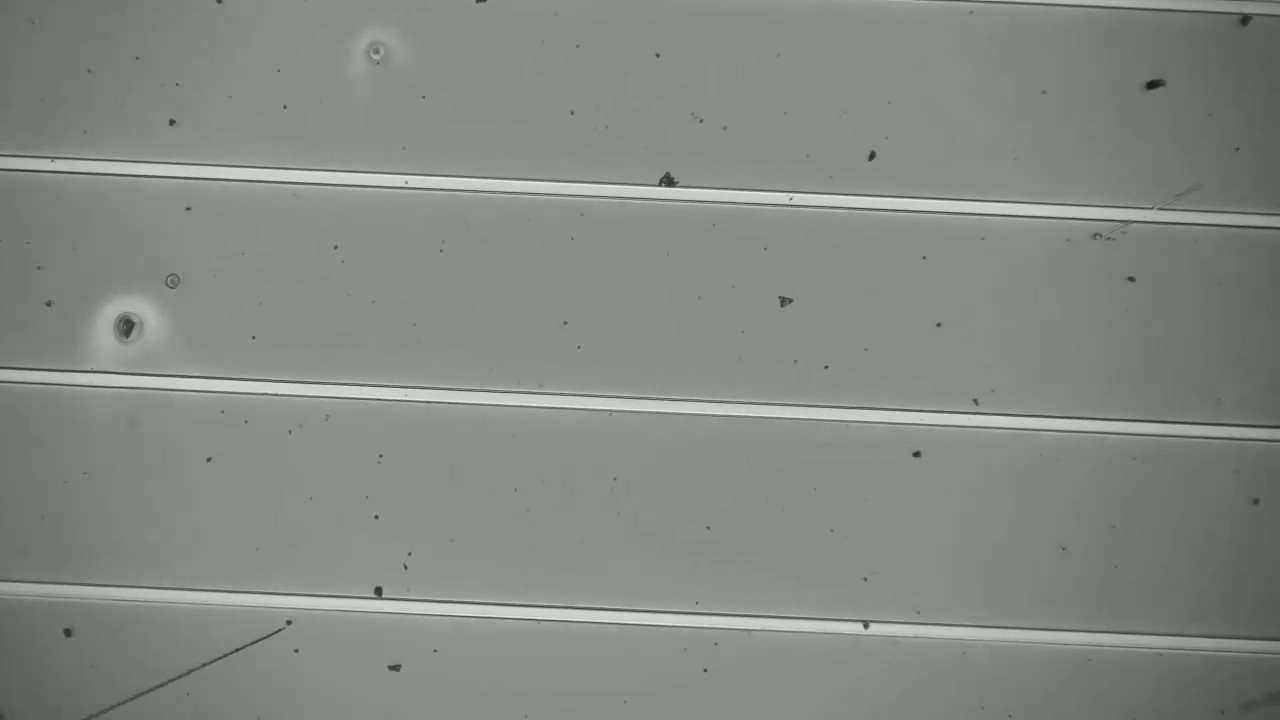scratch: (71, 621, 291, 719)
